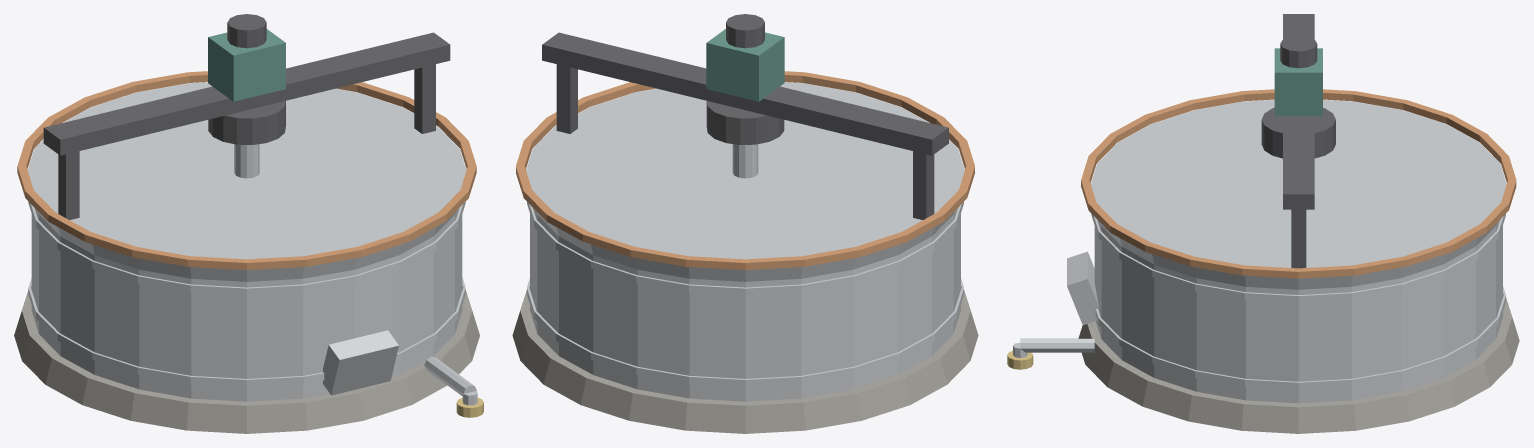
Rendered from distillery-and-bonded-warehouse-mash-tun-27a1717b__38667.glb.
3 views of the same model, side by side, from view 1: azimuth 30°, elevation 25°; view 2: azimuth 150°, elevation 25°; view 3: azimuth 270°, elevation 25° (orthographic). The views are drawn at different scales.
Visible parts, largest first — view 1: mash-tun-steel, mash-tun-stone, mash-tun-iron, mash-tun-copper, mash-tun-paint, rake/iron, rake/steel; view 2: mash-tun-steel, mash-tun-stone, mash-tun-iron, mash-tun-copper, mash-tun-paint, rake/iron, rake/steel; view 3: mash-tun-steel, mash-tun-stone, mash-tun-copper, mash-tun-iron, mash-tun-paint, rake/iron.
Boxes of the visible parts, x1,y1,x2,y2 form: mash-tun-steel: (27, 82, 477, 405); mash-tun-stone: (14, 290, 479, 433); mash-tun-iron: (43, 14, 450, 220); mash-tun-copper: (17, 71, 476, 269); mash-tun-paint: (208, 29, 285, 101); rake/iron: (208, 101, 285, 144); rake/steel: (234, 144, 259, 178); mash-tun-steel: (526, 82, 964, 401); mash-tun-stone: (512, 290, 978, 433); mash-tun-iron: (542, 14, 948, 219); mash-tun-copper: (516, 71, 974, 269); mash-tun-paint: (706, 29, 784, 101); rake/iron: (706, 101, 784, 144); rake/steel: (732, 144, 758, 178); mash-tun-steel: (1013, 99, 1506, 403); mash-tun-stone: (1078, 297, 1519, 433); mash-tun-copper: (1081, 89, 1516, 278); mash-tun-iron: (1280, 14, 1317, 268); mash-tun-paint: (1274, 48, 1322, 116); rake/iron: (1261, 107, 1335, 158).
Bounding box in the file's own units: 4.76 × 3.53 × 5.52.
Materials: 6 (1 with a texture image).
